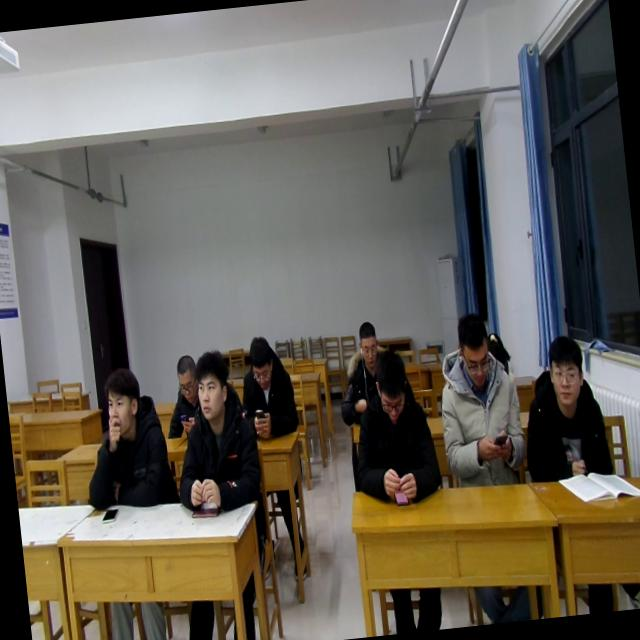bow: (234, 332, 303, 444)
down: (446, 308, 498, 395), (366, 344, 414, 428), (244, 330, 278, 393), (352, 315, 382, 374), (170, 350, 200, 406)
lookup: (98, 358, 145, 444), (542, 328, 590, 412), (192, 341, 238, 425)
sit: (163, 342, 269, 524), (428, 306, 530, 489), (341, 344, 442, 511), (74, 360, 176, 516), (514, 330, 614, 484), (329, 315, 391, 428), (158, 352, 205, 438)
